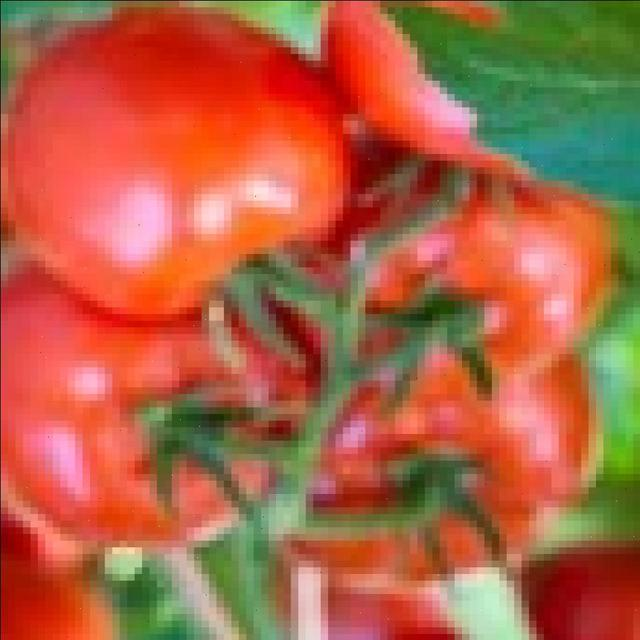Healthy Fruit: (95, 109, 287, 301)
